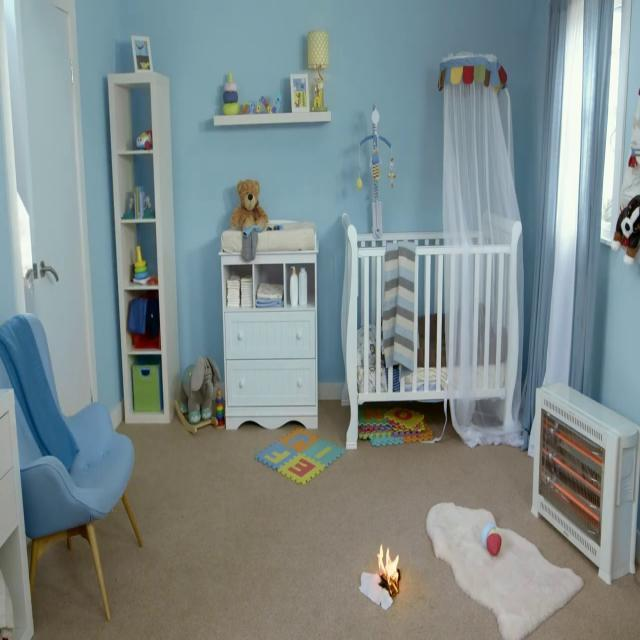Fire: (376, 534, 400, 594)
